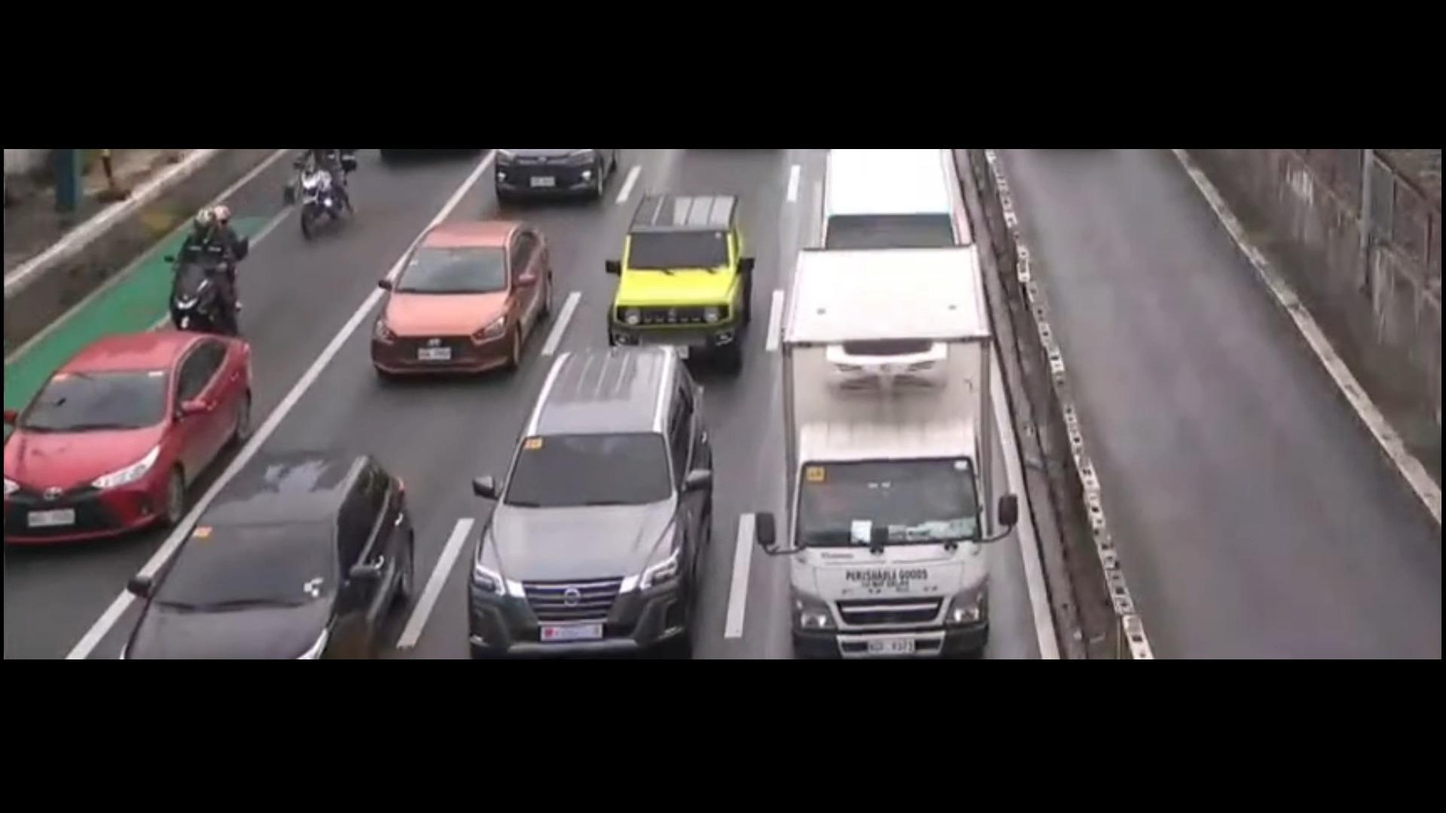Motorcycle: (140, 175, 249, 330), (273, 149, 369, 247)
SUV: (459, 345, 729, 652), (577, 187, 760, 355)
Sedan: (113, 446, 435, 661), (0, 300, 255, 545), (354, 209, 563, 389)
Truck: (748, 237, 1006, 652)
Van: (797, 151, 989, 261)
